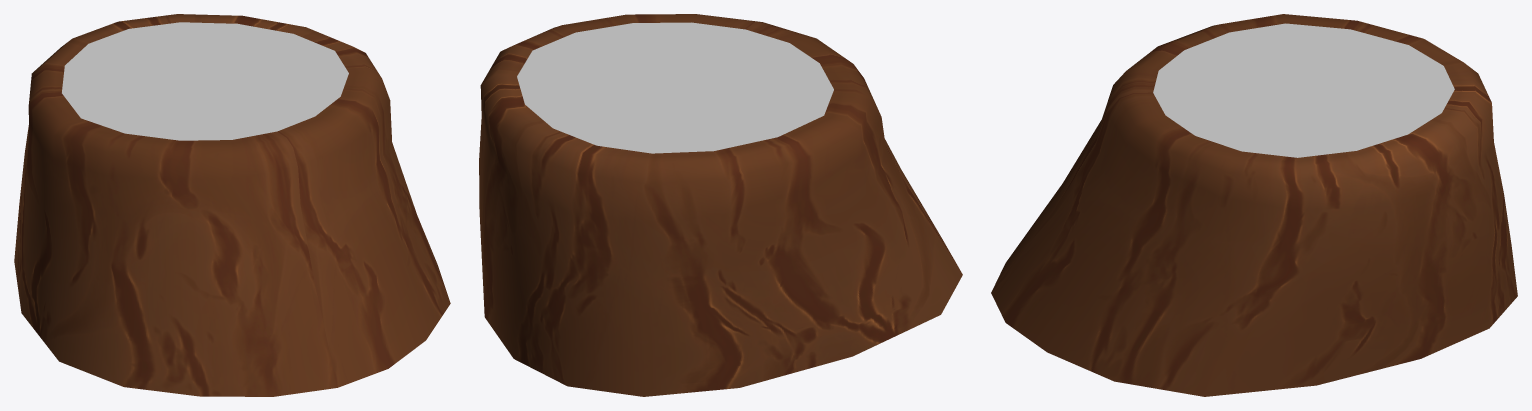
The model's file is SM_ENV_TREE_stump_v2_01_02.fbx.
The picture shows the model from 3 angles, left to right: view 1: azimuth 30°, elevation 25°; view 2: azimuth 150°, elevation 25°; view 3: azimuth 270°, elevation 25°; orthographic projection. The views are drawn at different scales.
Visible parts, largest first — view 1: SM_ENV_TREE_stump_v2_01; view 2: SM_ENV_TREE_stump_v2_01; view 3: SM_ENV_TREE_stump_v2_01.
Boxes of the visible parts, <box> form: SM_ENV_TREE_stump_v2_01: <box>14,14,450,396</box>; SM_ENV_TREE_stump_v2_01: <box>479,14,962,396</box>; SM_ENV_TREE_stump_v2_01: <box>991,14,1517,396</box>.
Bounding box in the file's own units: 2.07 × 1.02 × 2.33.
